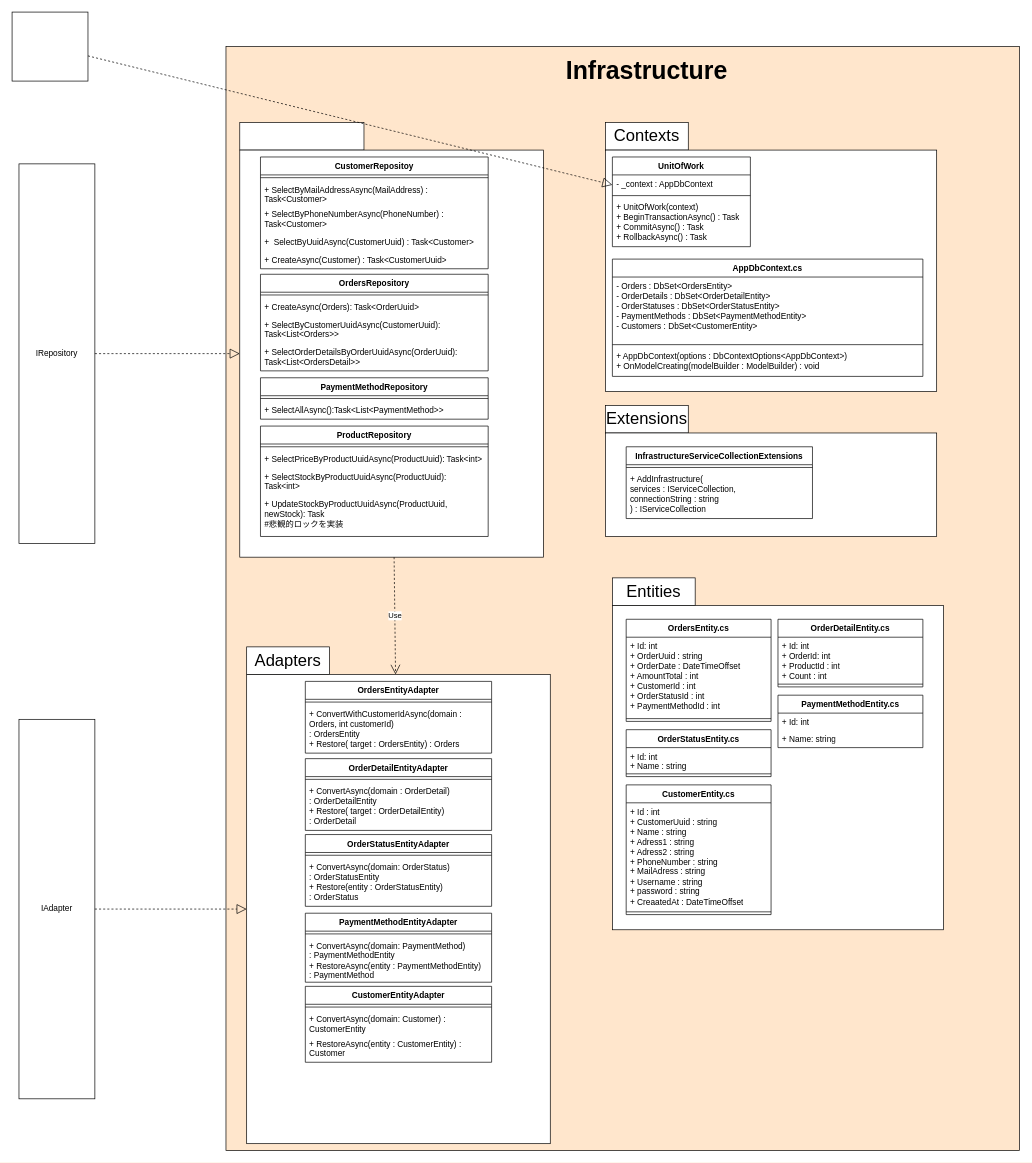
Some shapes in this 1032 by 1163 pixel diagram are drawn without their labels. The shapes that lost their labels are listed below. From the top down, each one's centre as x and y in pixels, then its label:
At pixel 49 46: "IUnitOfWork".
At pixel 301 136: "Repositories".
